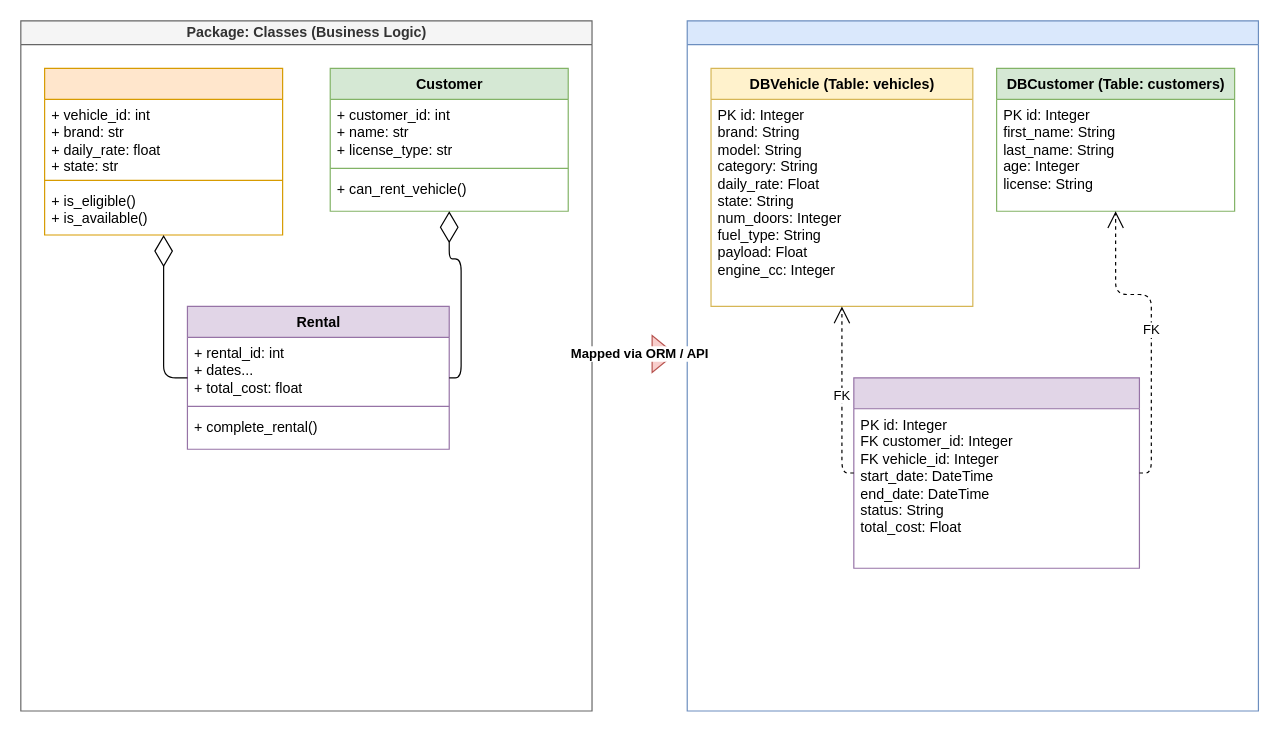
The diagram is 1279 pixels wide and 732 high, and some of its shapes have lost their labels. The box of each missing label's shape, as (x1, y1, x2, y2) in pixels:
DBRental (Table: rentals): (853, 377, 1139, 568)
Package: API_BDD (Persistence / SQLAlchemy): (686, 20, 1258, 711)
Vehicule: (43, 67, 283, 235)
